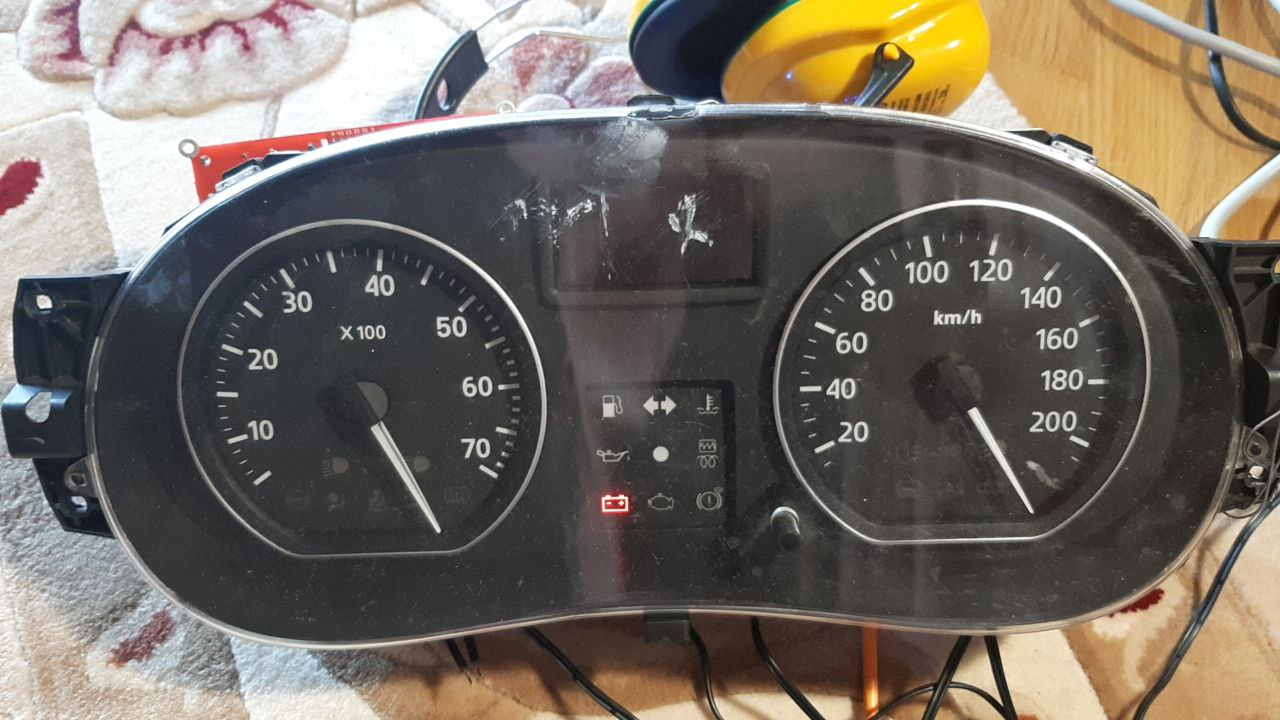accumulator: (597, 495, 632, 518)
